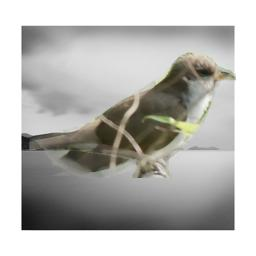Cuckoo: (29, 52, 236, 178)
